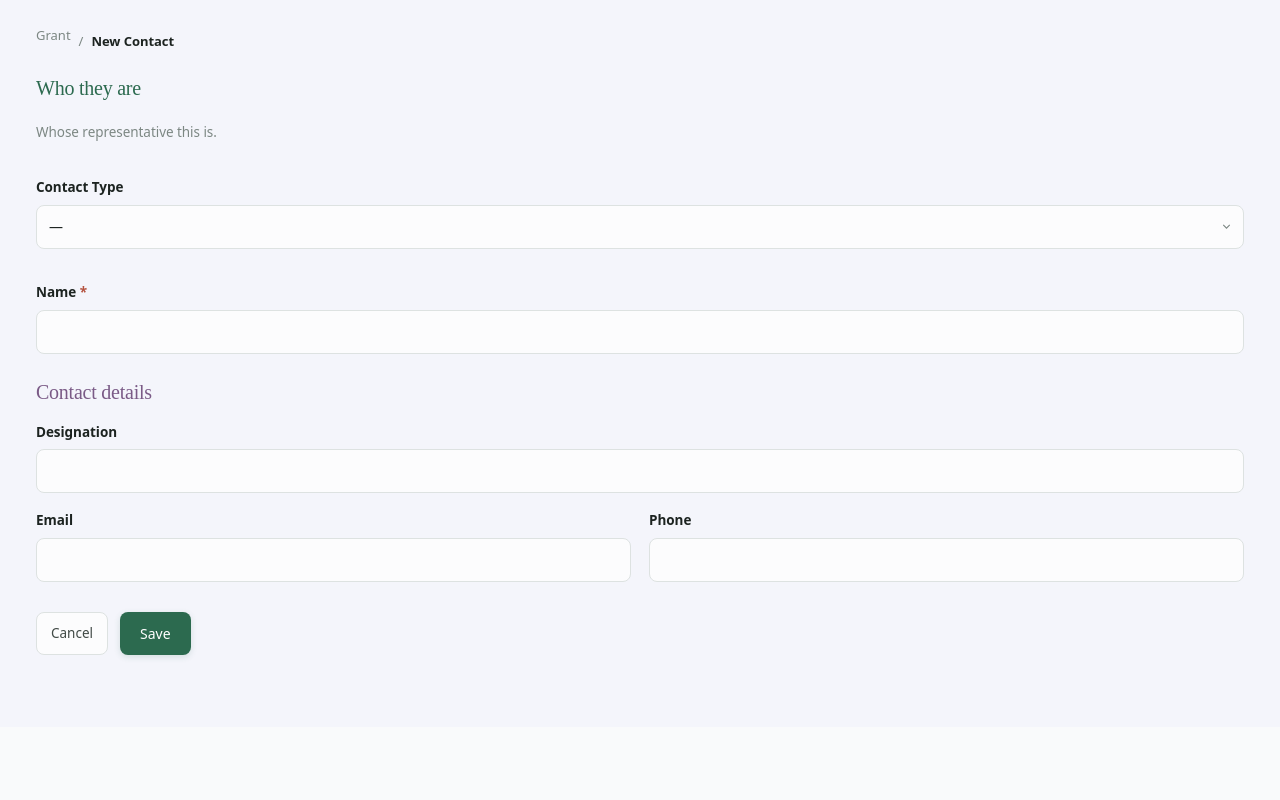
Test: creating a contact › there is no partner type select, even for a partner representative
The width and height of the screenshot is (1280, 800).
Select "Partner representative" in the dropdown labelled "Contact Type" at (640, 227), box [36,205,1244,249]
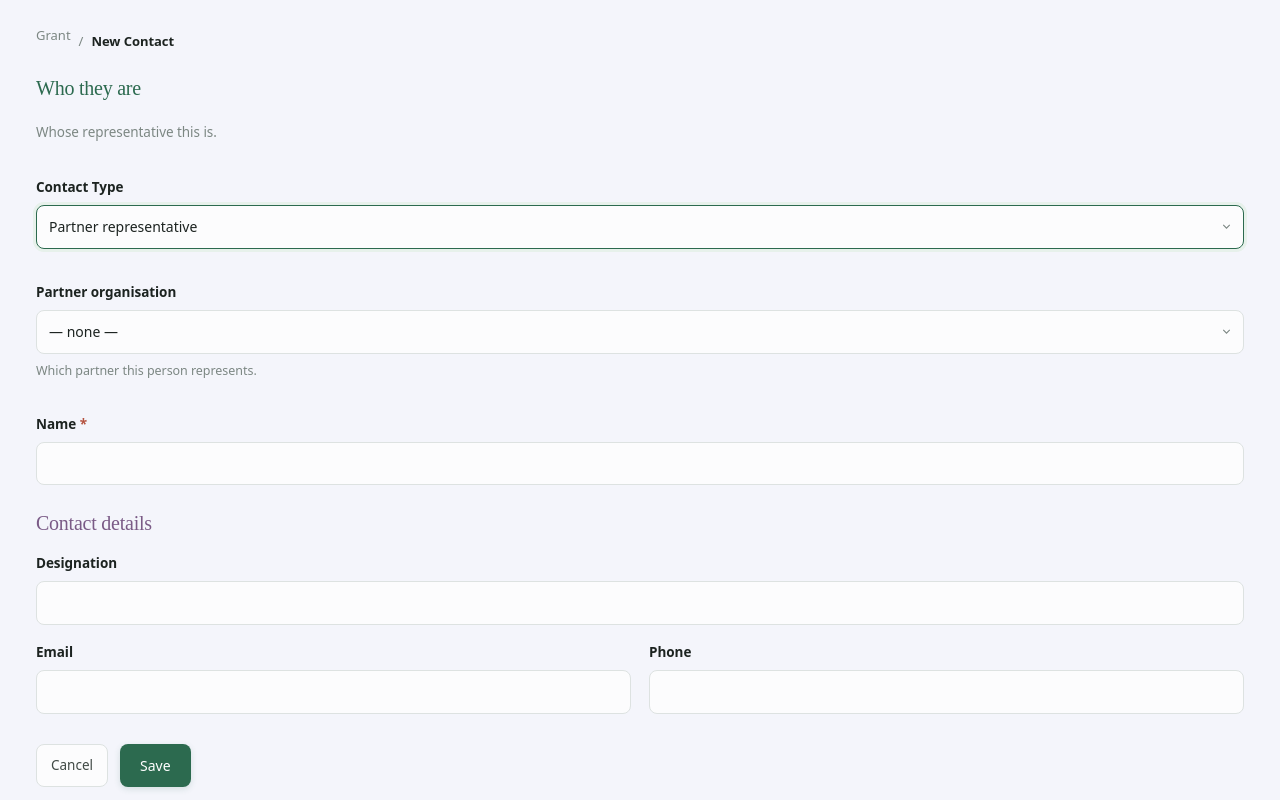
Check: the dropdown labelled "Partner organisation" is shown, box [36,310,1244,354]
